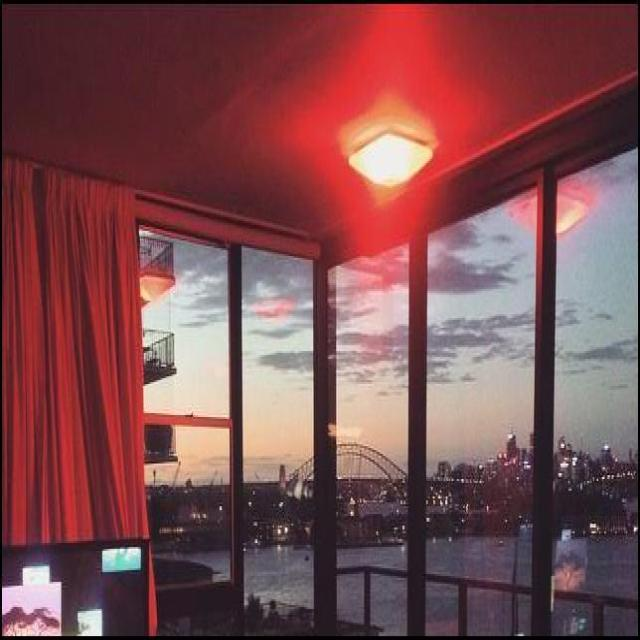other: (7, 193, 133, 503), (315, 36, 471, 215), (511, 190, 590, 242)
